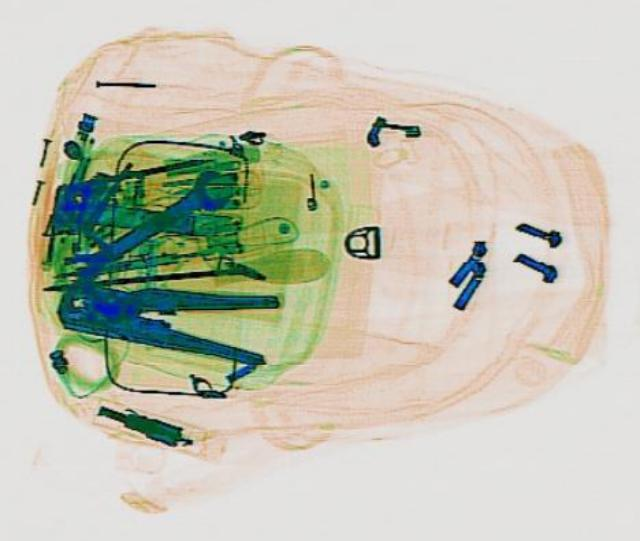Pliers: (49, 266, 279, 363)
Wrench: (51, 163, 242, 288)
